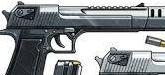gun: (1, 1, 165, 75)
